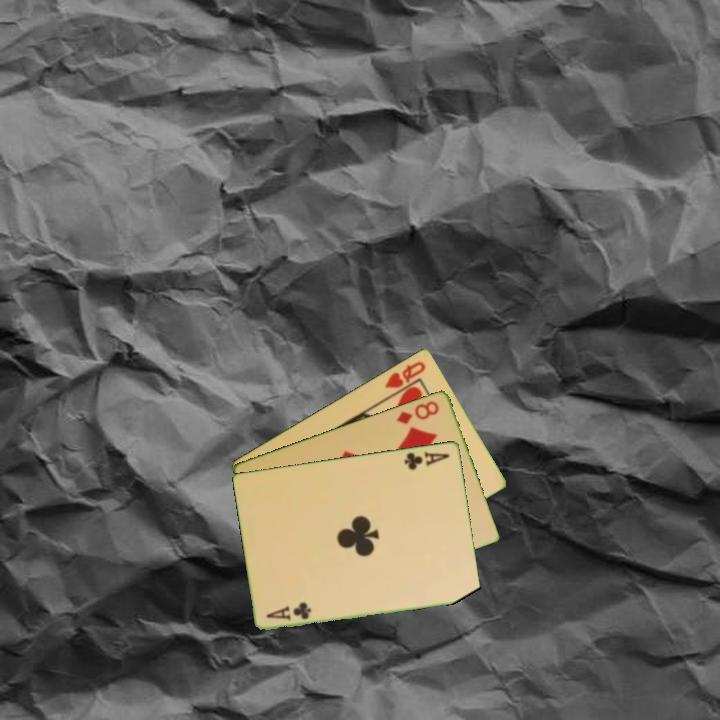8d: (393, 397, 442, 427)
Ac: (401, 448, 453, 473), (263, 599, 314, 623)
Qh: (381, 357, 429, 391)
